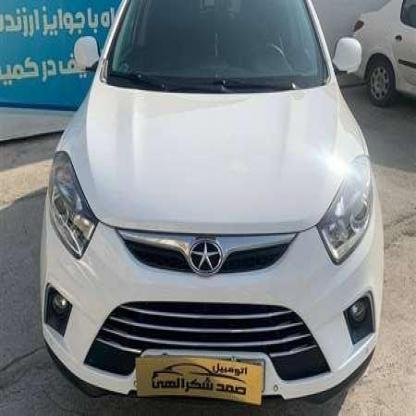Car: (46, 0, 386, 406), (345, 0, 416, 115)
